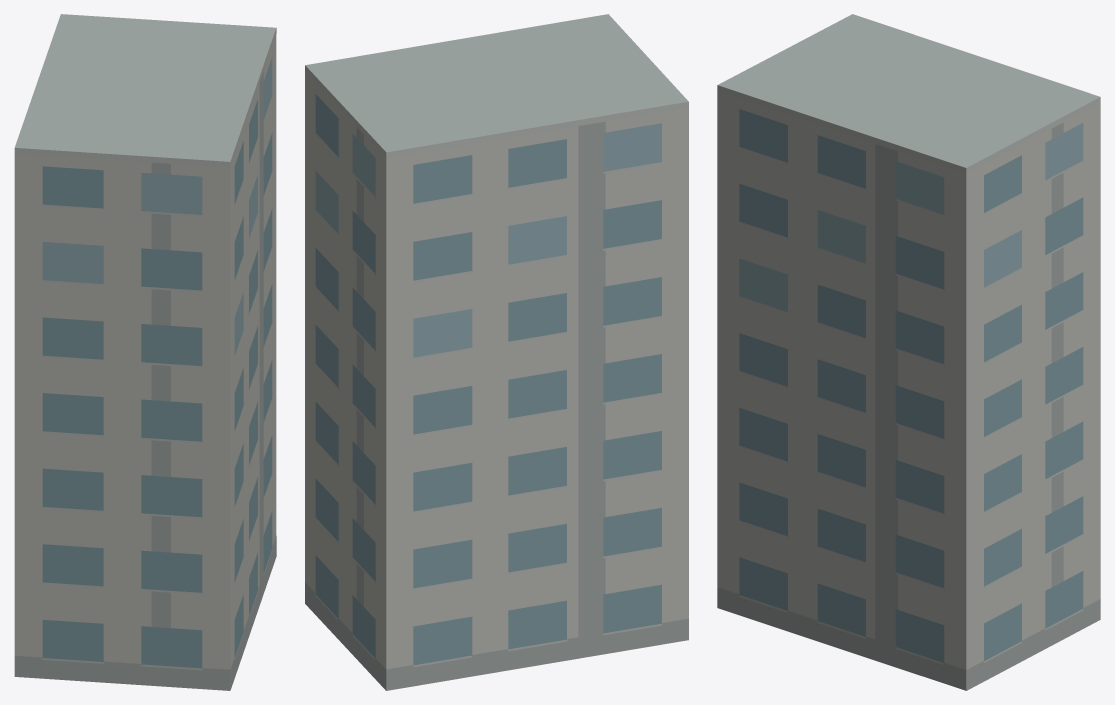
The model's file is survey-upis-32561098.glb.
3 views of the same model, side by side, from view 1: azimuth 30°, elevation 25°; view 2: azimuth 150°, elevation 25°; view 3: azimuth 270°, elevation 25° (orthographic). The views are drawn at different scales.
Visible parts, largest first — view 1: survey-upis-32561098.tmp; view 2: survey-upis-32561098.tmp; view 3: survey-upis-32561098.tmp.
Part boxes in pixels (bbox=[...]): survey-upis-32561098.tmp: bbox=[14, 14, 276, 690]; survey-upis-32561098.tmp: bbox=[305, 14, 688, 690]; survey-upis-32561098.tmp: bbox=[717, 14, 1100, 690].
Size of the model in its own units: 13.78 by 21.8 by 14.49.
